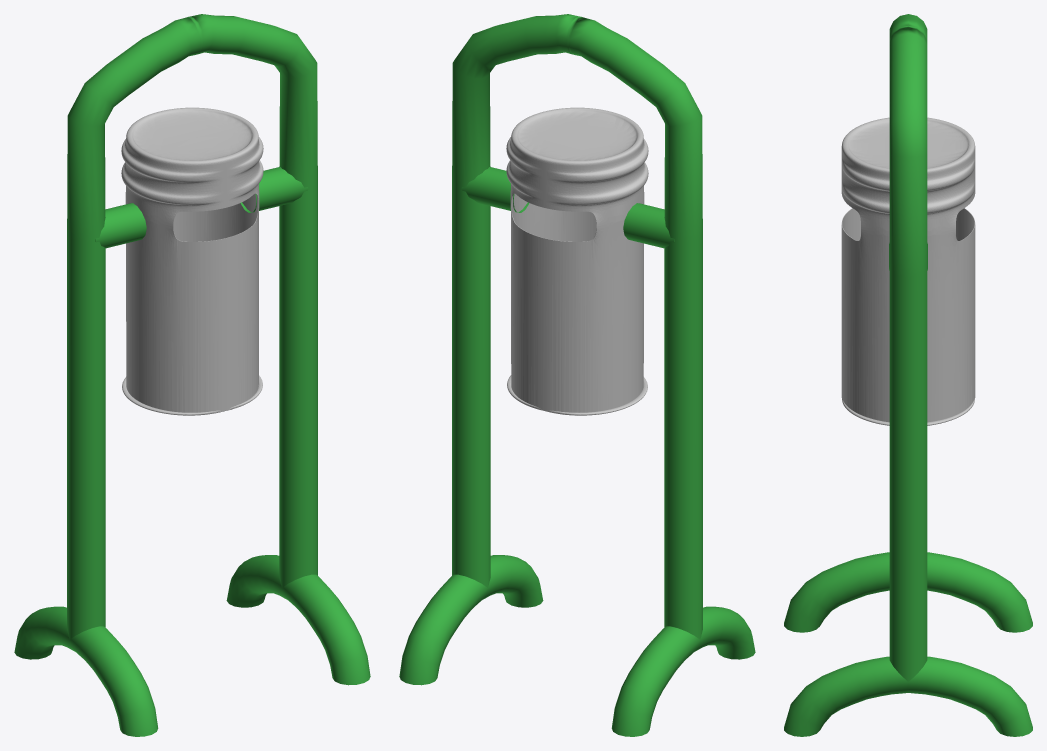
The model's file is mesh_TrashCan.fbx.
3 views of the same model, side by side, from view 1: azimuth 30°, elevation 25°; view 2: azimuth 150°, elevation 25°; view 3: azimuth 270°, elevation 25° (orthographic).
Parts seen in each view (by area): view 1: TrashCan; view 2: TrashCan; view 3: TrashCan.
Boxes of the visible parts, x1,y1,x2,y2 form: TrashCan: (14,14,370,736); TrashCan: (399,14,755,736); TrashCan: (784,14,1032,736).
Size of the model in its own units: 42.29 by 106 by 36.85.
